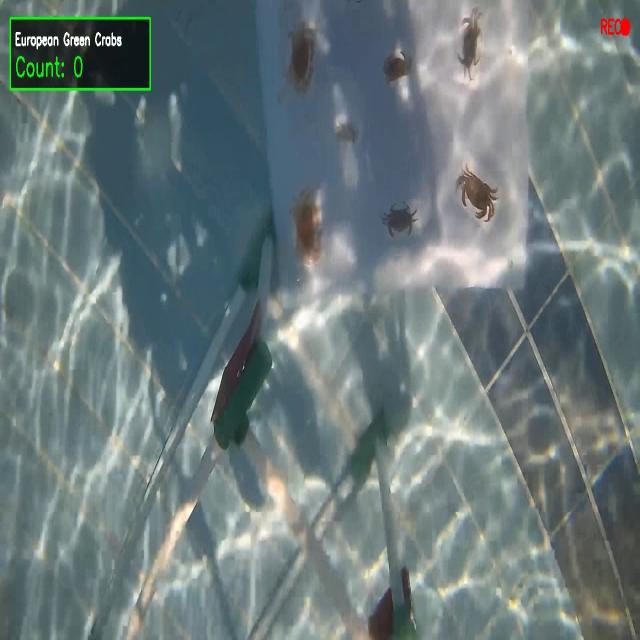European_Green_Crab: (456, 7, 489, 85), (380, 198, 418, 242), (332, 118, 358, 151)
